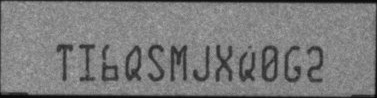0: (261, 44, 278, 81)
2: (306, 44, 325, 82)
6: (100, 44, 120, 81)
G: (283, 45, 302, 81)
I: (78, 44, 94, 82)
J: (193, 42, 211, 81)
M: (169, 44, 188, 81)
Q: (125, 44, 143, 81), (238, 42, 254, 82)
S: (148, 44, 165, 82)
T: (56, 43, 73, 82)
X: (215, 43, 235, 83)
